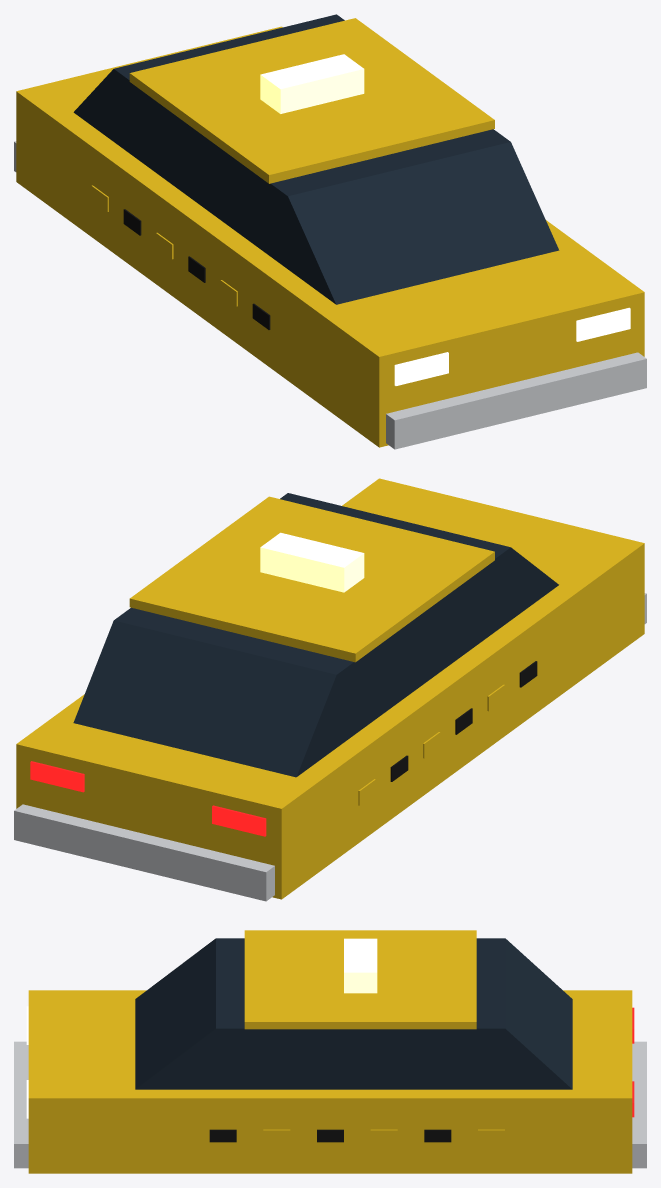
The model's file is taxi.glb.
3 views of the same model, one above another, from view 1: azimuth 30°, elevation 25°; view 2: azimuth 150°, elevation 25°; view 3: azimuth 270°, elevation 25° (orthographic). The views are drawn at different scales.
Visible parts, largest first — view 1: body; view 2: body; view 3: body.
Part boxes in pixels (left/top/right/bottom): body: left=14, top=14, right=646, bottom=449; body: left=14, top=478, right=646, bottom=901; body: left=14, top=930, right=646, bottom=1173.
Bounding box in the file's own units: 1.92 × 1.35 × 4.72.
